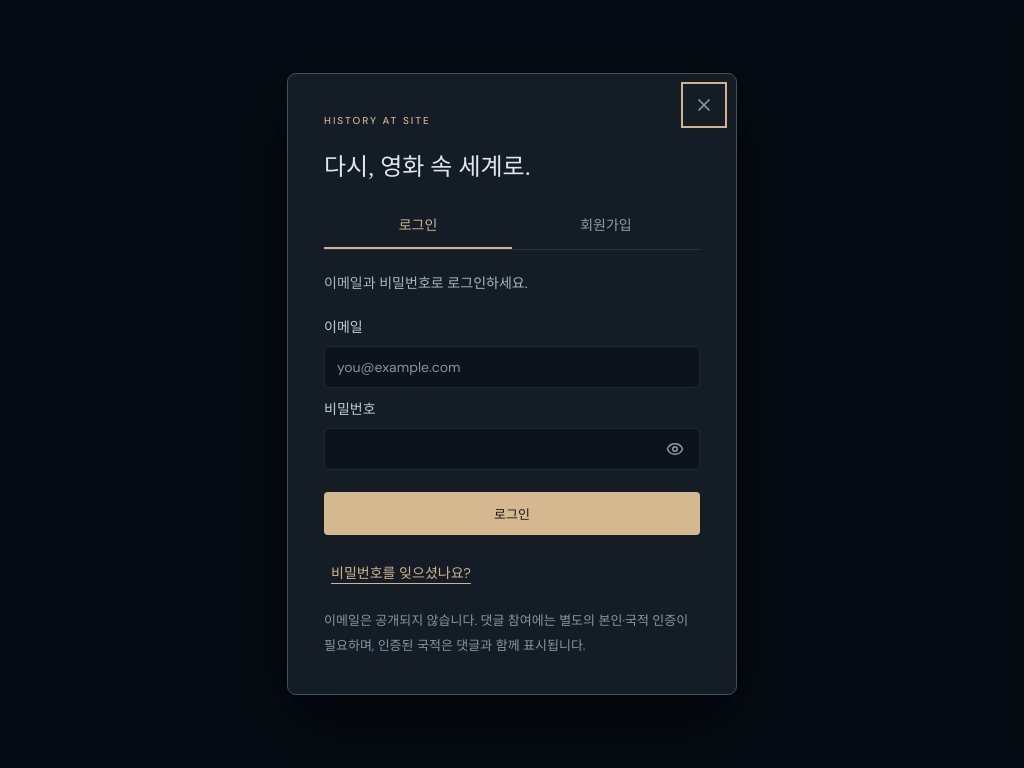
Test: email account dialog › recovers from a failed login request and never reflects private error detail
Type "reader@example.com" into the field labelled "이메일" at (512, 367), box [324,346,700,388]
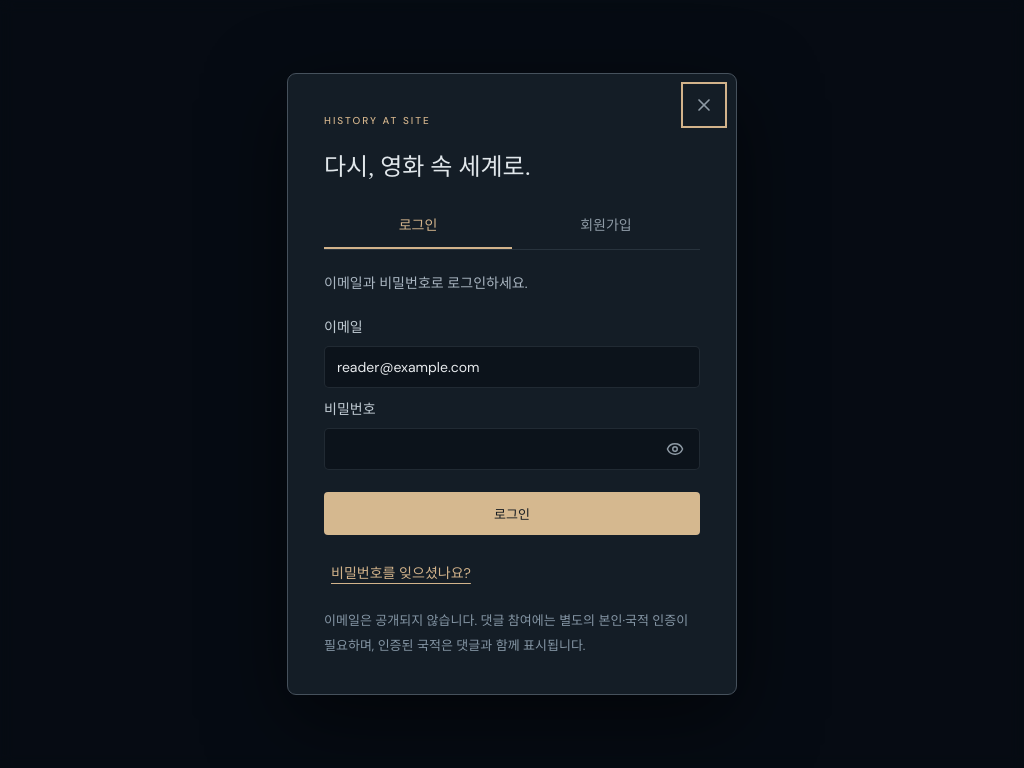
Type "password" into the password field labelled "비밀번호" at (512, 449), box [324,428,700,470]
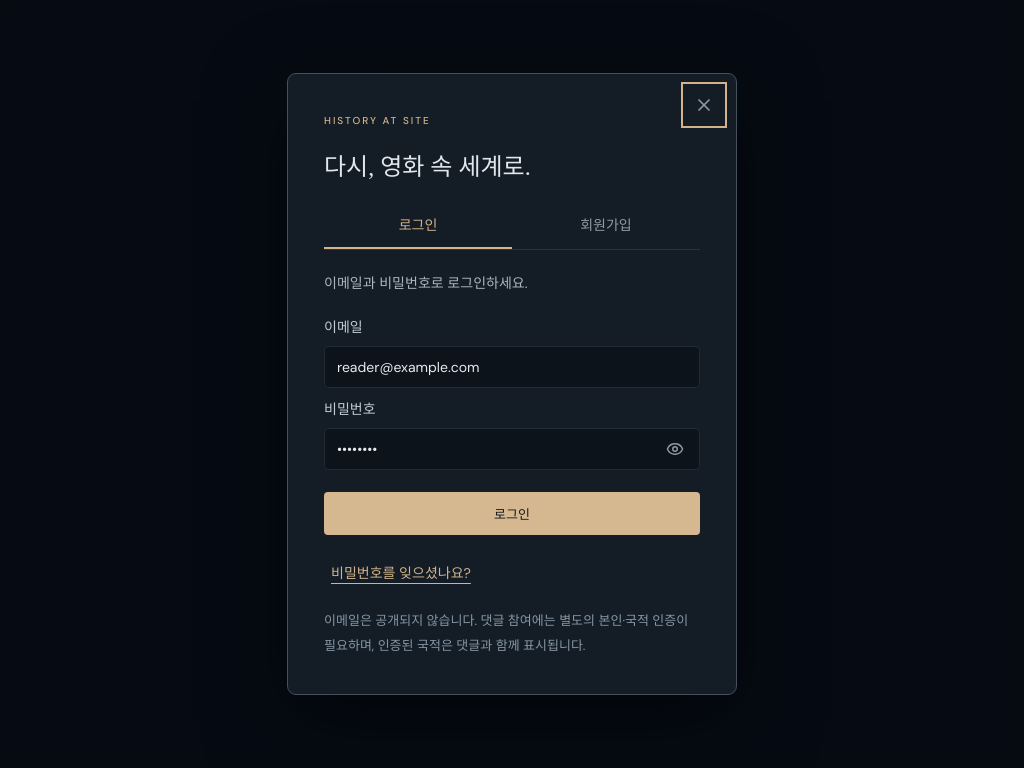
Submit the form, box [324,316,700,535]
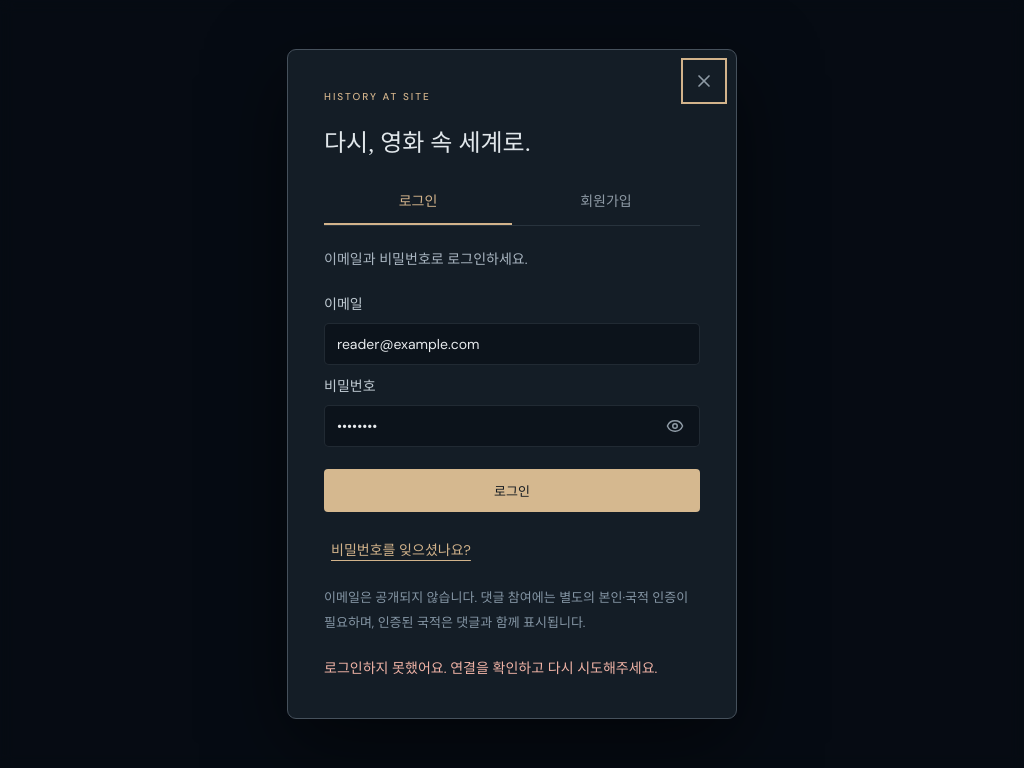
expect the password field labelled "비밀번호" is enabled: met, box [324,405,700,447]
expect the message "로그인하지 못했어요. 연결을 확인하고 다시 시도해주세요." is shown: met, box [324,655,700,682]
